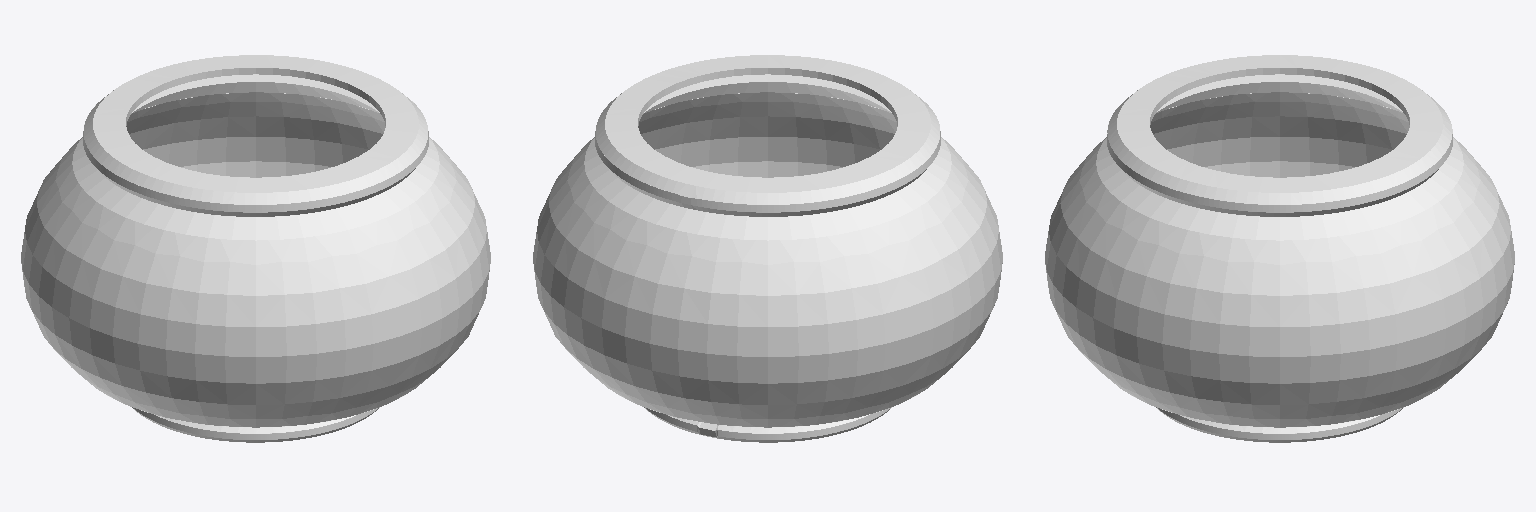
The model's file is Fish_&_Bowl_2.obj.
3 renders of one model, left to right at view 1: azimuth 30°, elevation 25°; view 2: azimuth 150°, elevation 25°; view 3: azimuth 270°, elevation 25°, orthographic.
Visible parts, largest first — view 1: revolvedSurface1; view 2: revolvedSurface1; view 3: revolvedSurface1.
Boxes of the visible parts, x1=… form: revolvedSurface1: x1=21, y1=55, x2=490, y2=442; revolvedSurface1: x1=533, y1=55, x2=1002, y2=442; revolvedSurface1: x1=1045, y1=55, x2=1514, y2=442.
Size of the model in its own units: 25.33 by 15.83 by 25.33.